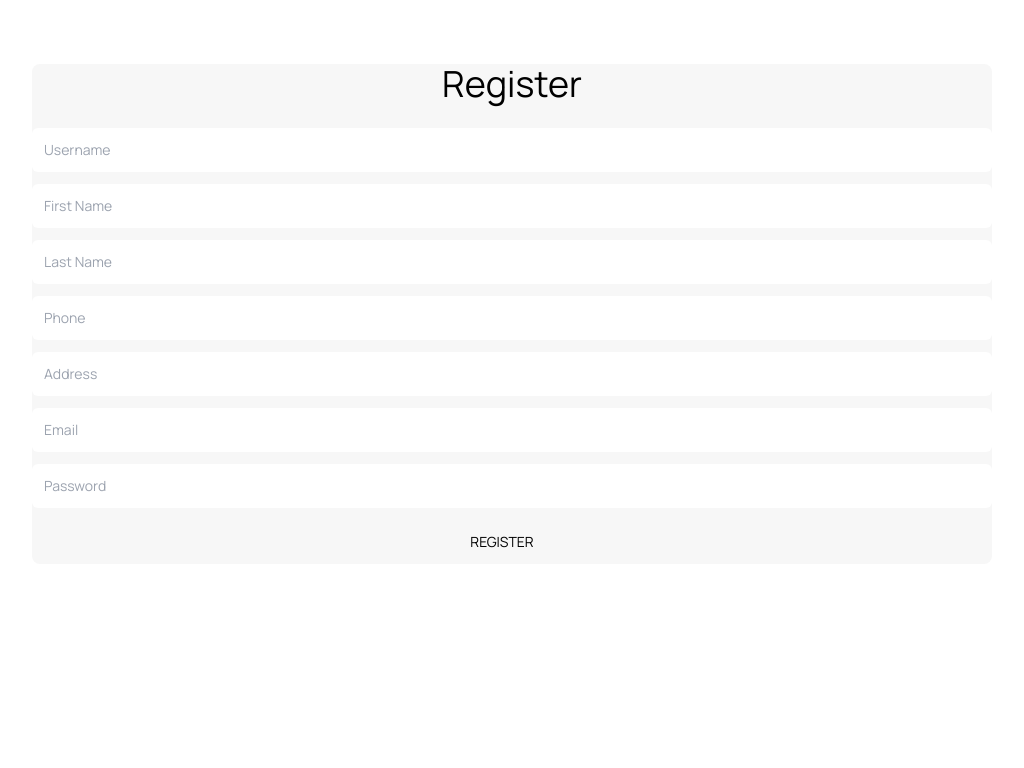
Test: RegisterForm Component › shows validation errors if fields are empty on submit
This screenshot has width=1024, height=768.
Click the button "Register": (502, 542) [32,520,972,564]
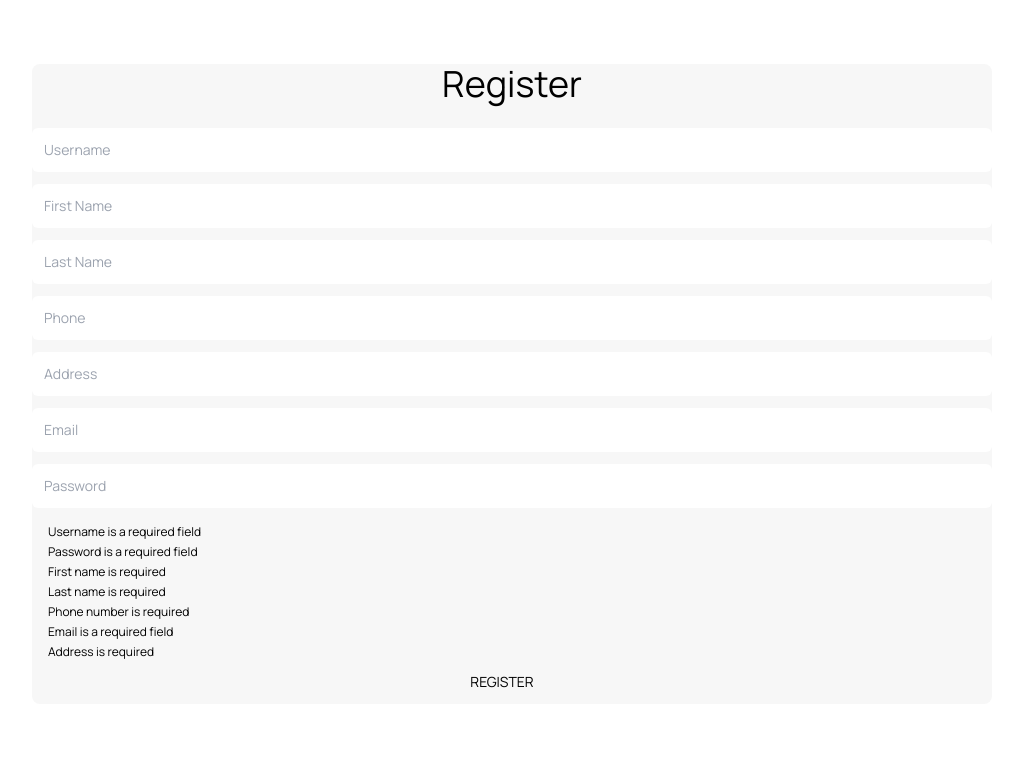
Check: the text "Username is a required field" is shown, box [48,523,201,540]
Check: the text "Password is a required field" is shown, box [48,543,198,560]
Check: the text "First name is required" is shown, box [48,563,166,580]
